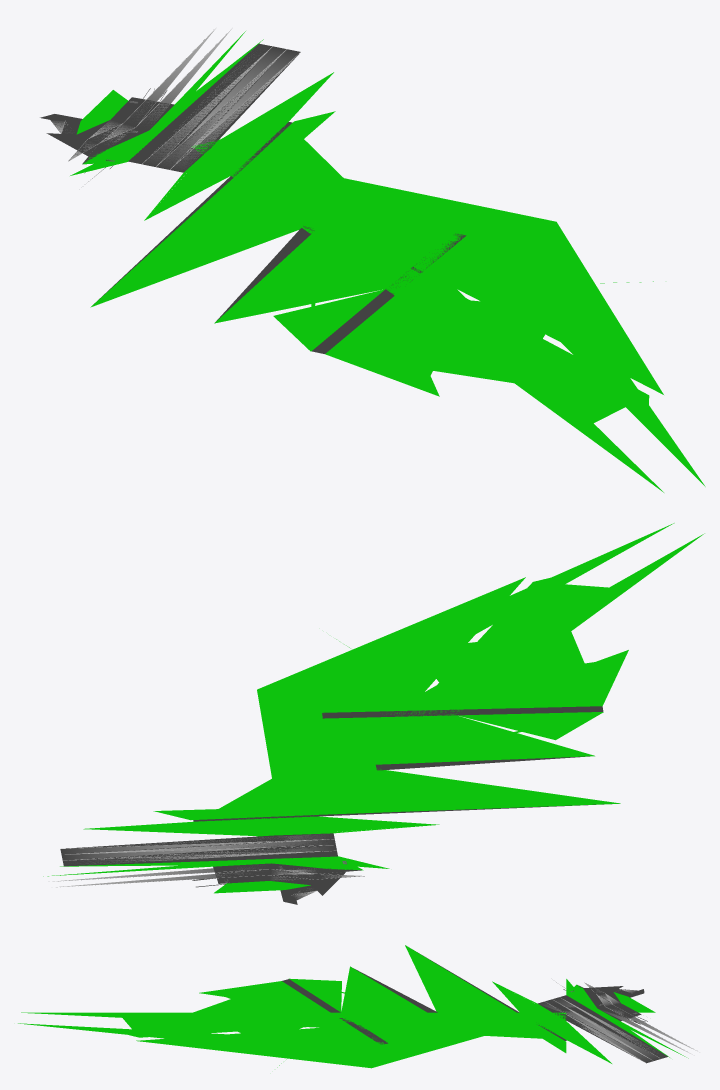
3 views of the same model, one above another, from view 1: azimuth 30°, elevation 25°; view 2: azimuth 150°, elevation 25°; view 3: azimuth 270°, elevation 25° (orthographic). The views are drawn at different scales.
Bounding box in the file's own units: 125 × 0.201 × 278.
